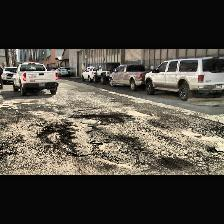pothole: (80, 114, 122, 122), (120, 113, 132, 119), (11, 101, 25, 105)
